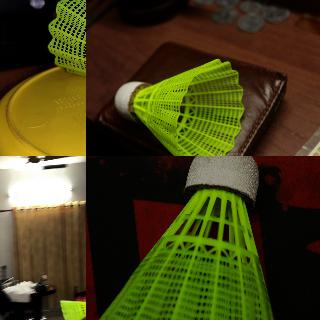shuttlecock: (94, 156, 284, 319), (114, 58, 245, 155), (47, 0, 85, 114), (59, 299, 85, 319)
